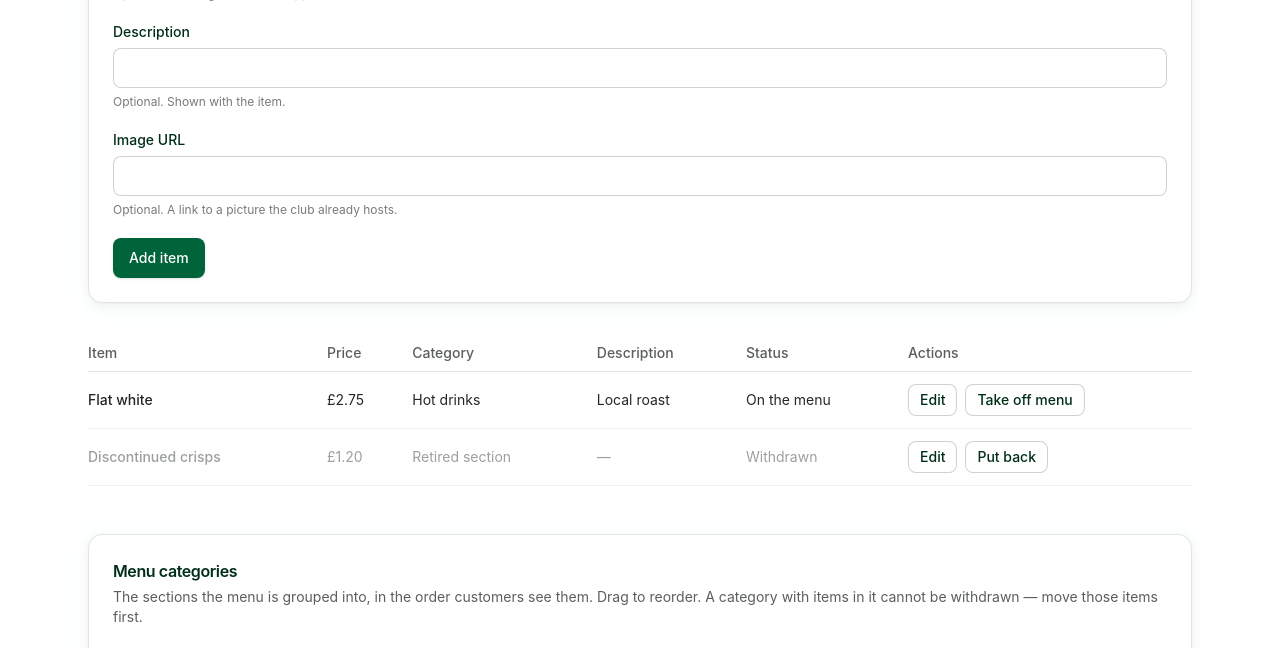
Test: AdminCafePage › loads a price back into the form as a plain number, not as £2.75
This screenshot has width=1280, height=648.
(page scrolled)
Click the button "Edit" in the row of "Flat white".
click(933, 400)  # box [908,384,957,416]
(page scrolled)
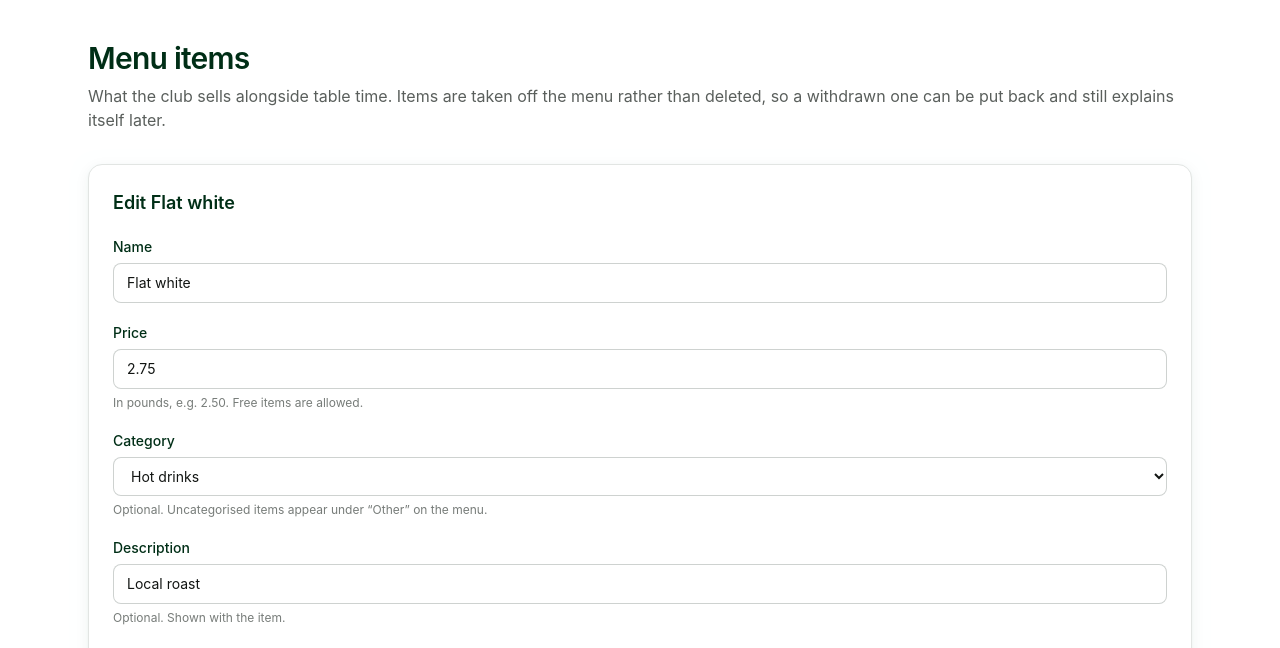
Now the field labelled "Price" holds "2.75", box [113,349,1167,389]
